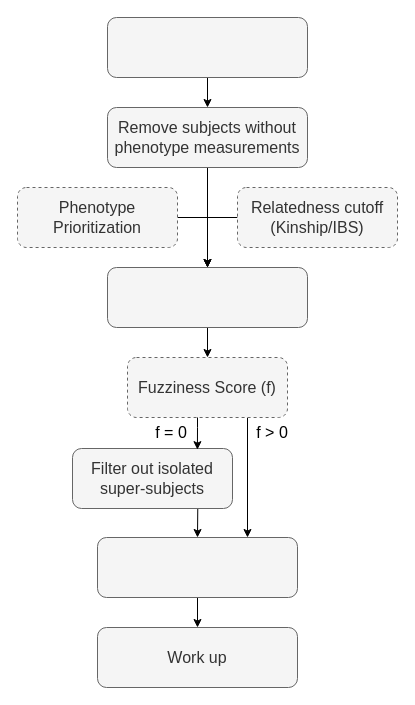
The diagram is 415 pixels wide and 705 high, and some of its shapes have lost their labels. The centre of each missing label's shape, as x and y in pixels:
"Filter out individuals to break related pairs" belongs at (x=207, y=297).
"Load Kinship and Phenotype Data" belongs at (x=207, y=47).
"Prune complex relatedness network" belongs at (x=197, y=567).
